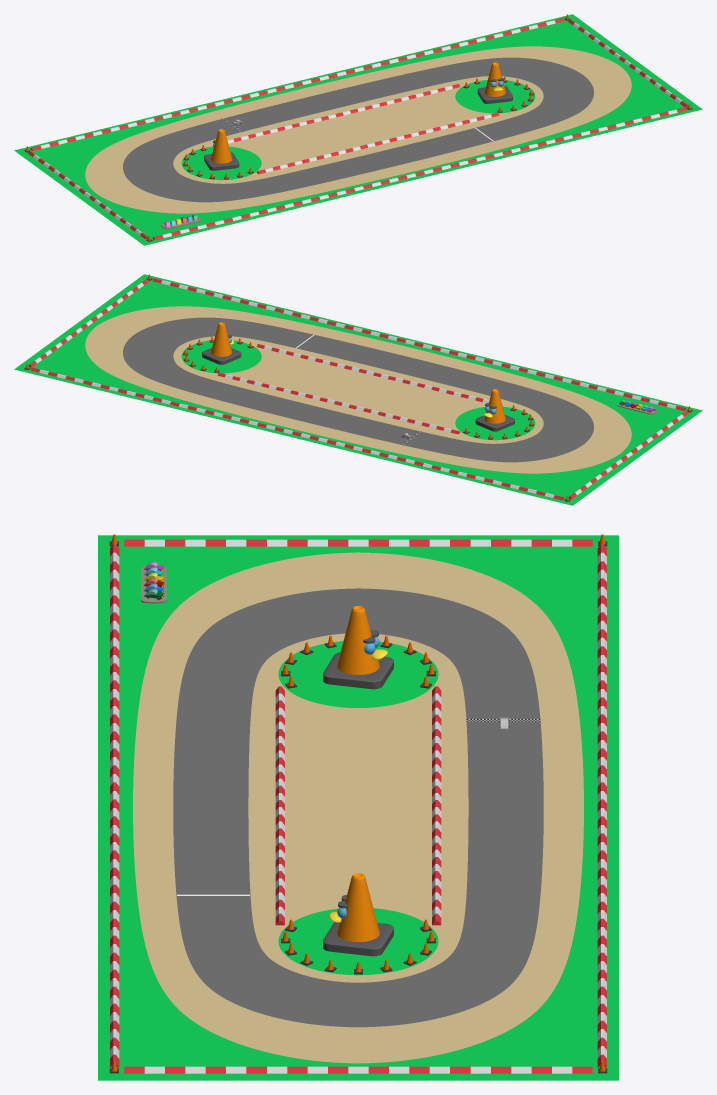
The model's file is Track3.fbx.
3 views of the same model, one above another, from view 1: azimuth 30°, elevation 25°; view 2: azimuth 150°, elevation 25°; view 3: azimuth 270°, elevation 25° (orthographic). The views are drawn at different scales.
Visible parts, largest first — view 1: Road, Grass, GravelOuter, GravelInner, Barrier.004, Barrier.001, GrassCircles1, GrassCircles2, Barrier.003, Barrier, BigCone1, BigCone2 (+2 smaller); view 2: Road, Grass, GravelOuter, GravelInner, Barrier.001, Barrier.004, GrassCircles1, GrassCircles2, Barrier, Barrier.003, BigCone2, BigCone1 (+2 smaller); view 3: Road, Grass, GravelOuter, GravelInner, GrassCircles1, GrassCircles2, Barrier.001, Barrier.004, Barrier.002, Barrier.005, BigCone2, BigCone1 (+2 smaller).
Boxes of the visible parts, left/top/right/bottom form: Road: left=123, top=57, right=593, bottom=202; Grass: left=14, top=14, right=702, bottom=245; GravelOuter: left=85, top=46, right=631, bottom=213; GravelInner: left=173, top=76, right=543, bottom=183; Barrier.004: left=152, top=107, right=686, bottom=240; Barrier.001: left=30, top=18, right=564, bottom=150; GrassCircles1: left=181, top=146, right=261, bottom=180; GrassCircles2: left=455, top=80, right=535, bottom=113; Barrier.003: left=257, top=112, right=499, bottom=174; Barrier: left=227, top=84, right=459, bottom=143; BigCone1: left=204, top=129, right=239, bottom=170; BigCone2: left=477, top=62, right=512, bottom=103; Road: left=123, top=317, right=593, bottom=462; Grass: left=14, top=274, right=702, bottom=505; GravelOuter: left=85, top=306, right=631, bottom=473; GravelInner: left=173, top=336, right=543, bottom=443; Barrier.001: left=30, top=367, right=564, bottom=500; Barrier.004: left=152, top=278, right=686, bottom=410; GrassCircles1: left=455, top=406, right=535, bottom=440; GrassCircles2: left=181, top=340, right=261, bottom=373; Barrier: left=217, top=372, right=459, bottom=434; Barrier.003: left=257, top=344, right=489, bottom=403; BigCone2: left=202, top=322, right=241, bottom=364; BigCone1: left=475, top=389, right=514, bottom=431; Road: left=173, top=588, right=543, bottom=1027; Grass: left=98, top=535, right=618, bottom=1080; GravelOuter: left=133, top=552, right=583, bottom=1063; GravelInner: left=248, top=633, right=468, bottom=982; GrassCircles1: left=278, top=641, right=438, bottom=707; GrassCircles2: left=278, top=908, right=438, bottom=975; Barrier.001: left=597, top=544, right=606, bottom=1067; Barrier.004: left=110, top=544, right=119, bottom=1067; Barrier.002: left=124, top=1066, right=592, bottom=1073; Barrier.005: left=124, top=539, right=592, bottom=546; BigCone2: left=323, top=873, right=393, bottom=956; BigCone1: left=323, top=606, right=393, bottom=689.
Bounding box in the file's own units: 406 × 164 × 23.12.
